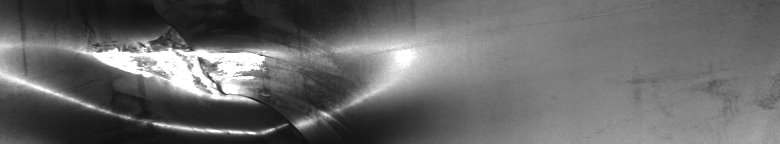ke: (5, 31, 377, 136)
